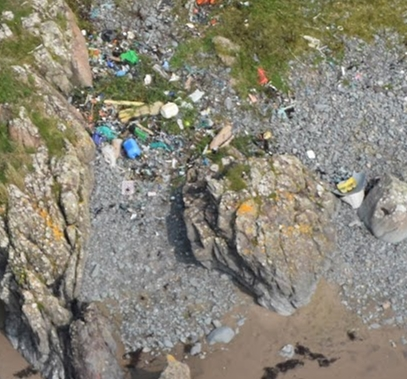together_barrel: (85, 1, 228, 164), (241, 57, 303, 145)
white_in_green: (317, 154, 387, 227), (291, 133, 332, 172)
